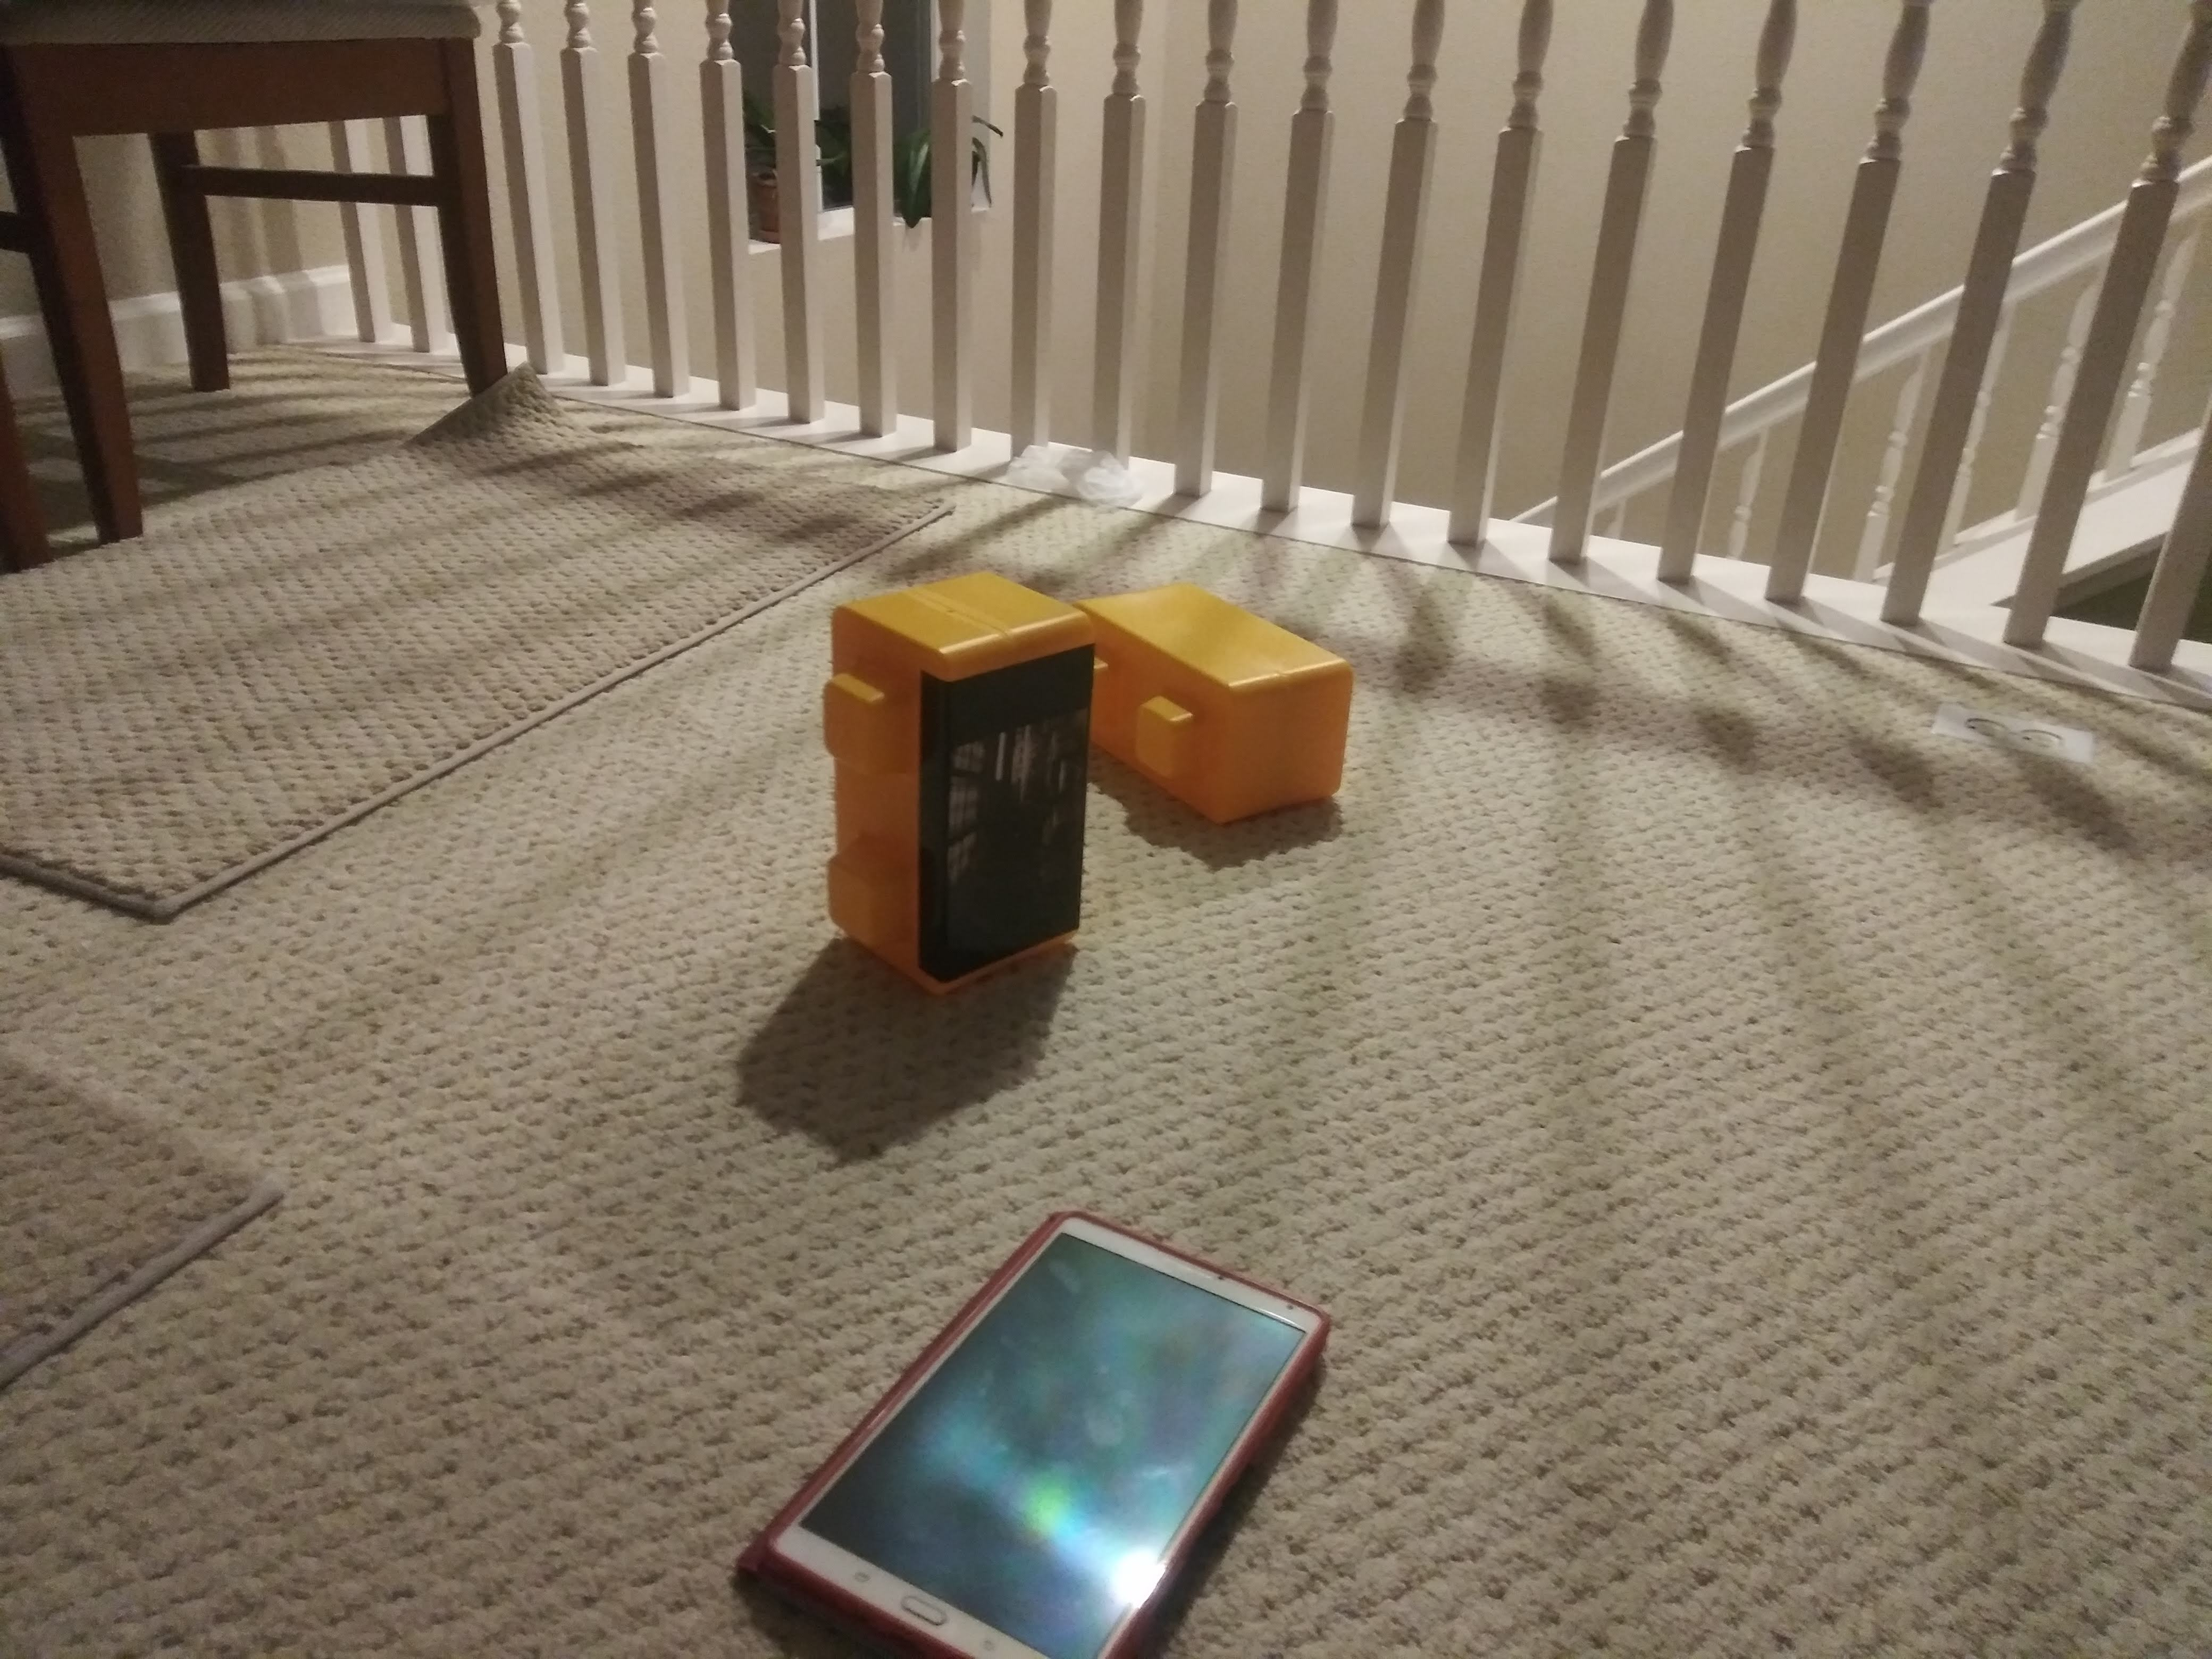skystone: (824, 596, 1087, 965)
stone: (1103, 601, 1350, 828)
